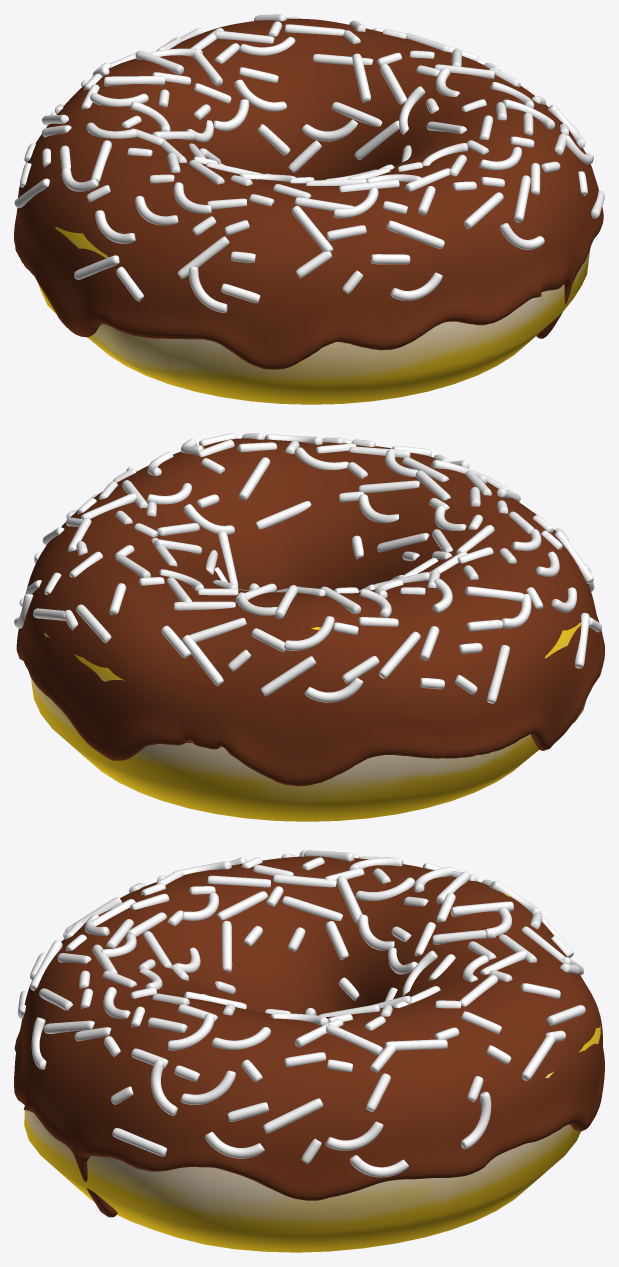
Rendered from donut_alone_2.glb.
3 renders of one model, top to bottom at view 1: azimuth 30°, elevation 25°; view 2: azimuth 150°, elevation 25°; view 3: azimuth 270°, elevation 25°, orthographic. The views are drawn at different scales.
Parts seen in each view (by area): view 1: icing.001, dnt_sprk_lng; view 2: icing.001, dnt_sprk_lng; view 3: icing.001, dnt_sprk_lng.
Boxes of the visible parts, box(x1,y1,x2,y2) form: icing.001: box(14, 14, 604, 369); dnt_sprk_lng: box(38, 227, 590, 404); icing.001: box(14, 433, 604, 786); dnt_sprk_lng: box(31, 622, 586, 821); icing.001: box(14, 850, 604, 1217); dnt_sprk_lng: box(24, 893, 600, 1252).
Bounding box in the file's own units: 0.1425 × 0.0589 × 0.1391.
Materials: 3 (1 with a texture image).
